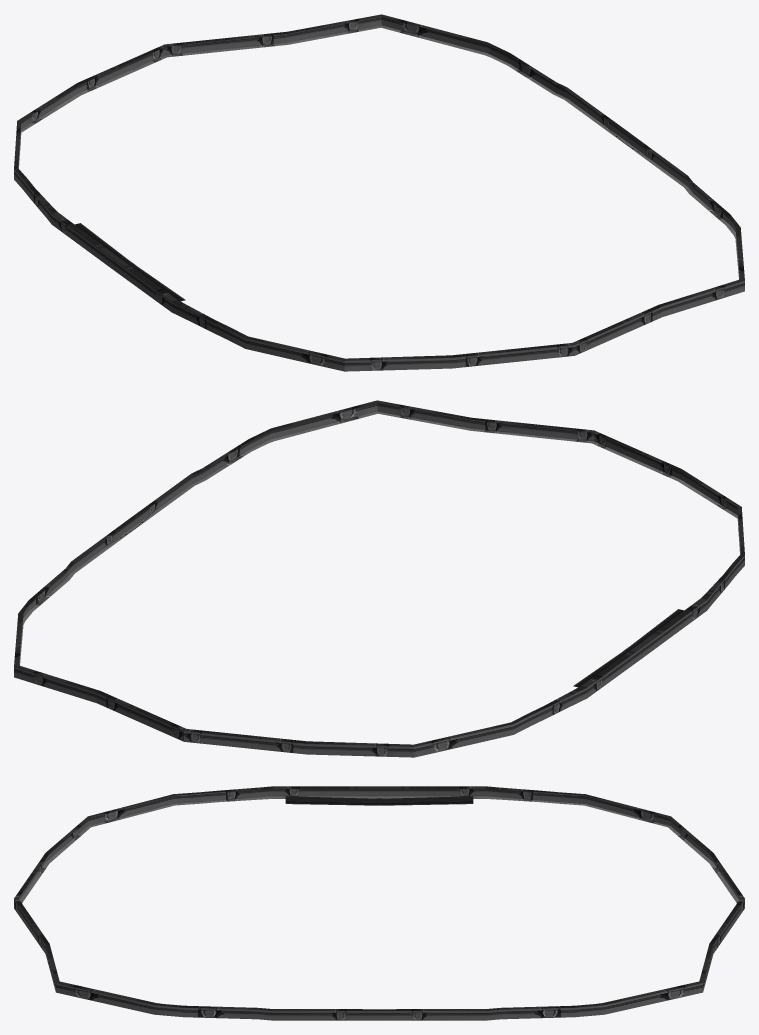
The model's file is Pre_Elevator_ent_Trim.FBX.
3 views of the same model, one above another, from view 1: azimuth 30°, elevation 25°; view 2: azimuth 150°, elevation 25°; view 3: azimuth 270°, elevation 25° (orthographic). The views are drawn at different scales.
Visible parts, largest first — view 1: Pre_Elevator_ent_Trim; view 2: Pre_Elevator_ent_Trim; view 3: Pre_Elevator_ent_Trim.
Boxes of the visible parts, x1,y1,x2,y2 form: Pre_Elevator_ent_Trim: (14,14,744,371); Pre_Elevator_ent_Trim: (14,400,744,757); Pre_Elevator_ent_Trim: (14,786,744,1020).
Bounding box in the file's own units: 6.92 × 0.1422 × 9.53.
